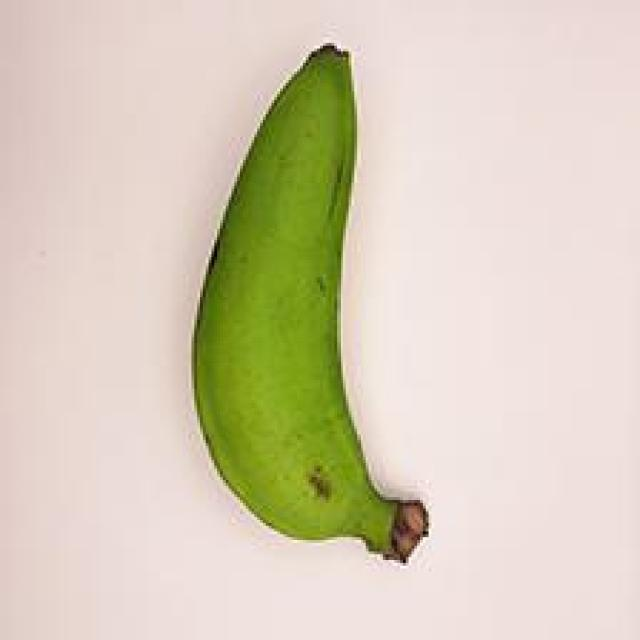Raw: (168, 25, 452, 586)
